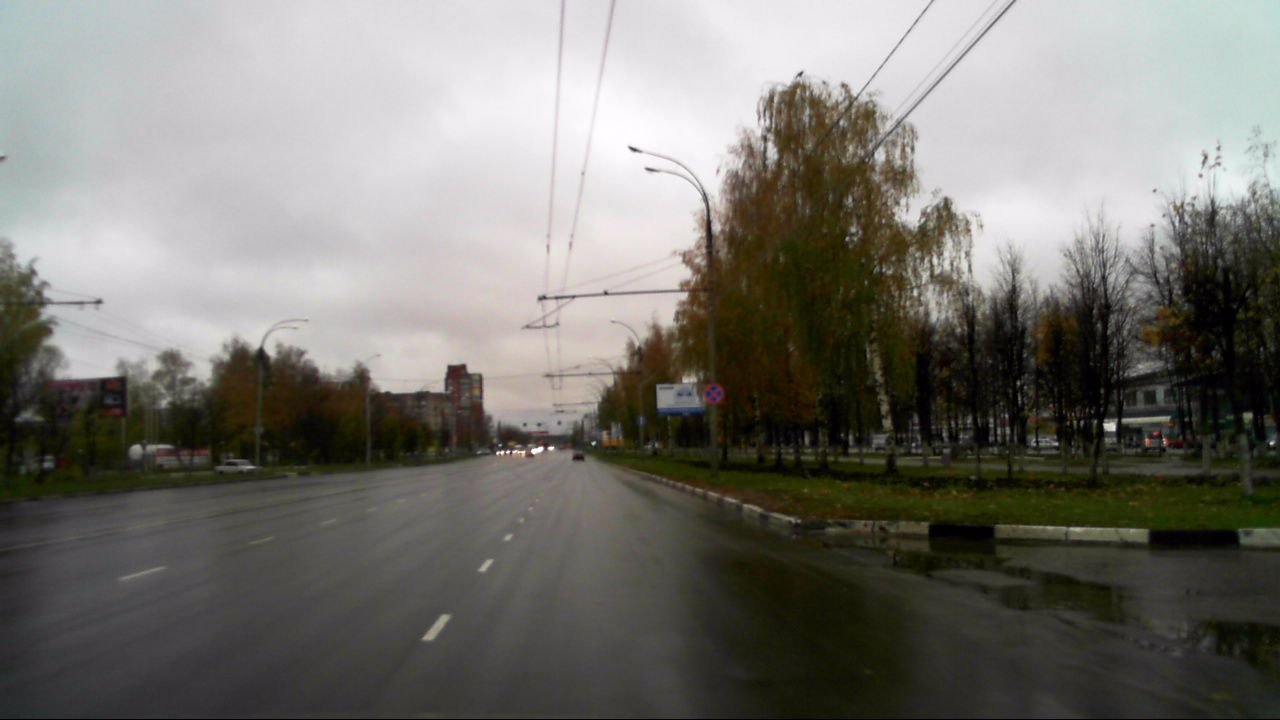No Parking: (702, 383, 723, 405)
